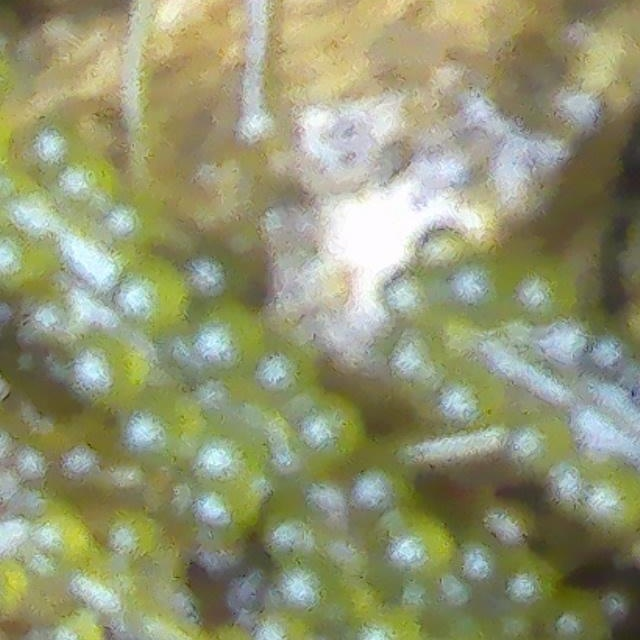SeaGrape: (71, 333, 147, 410), (121, 259, 195, 334), (305, 396, 367, 464), (35, 515, 92, 564), (0, 232, 31, 293)
